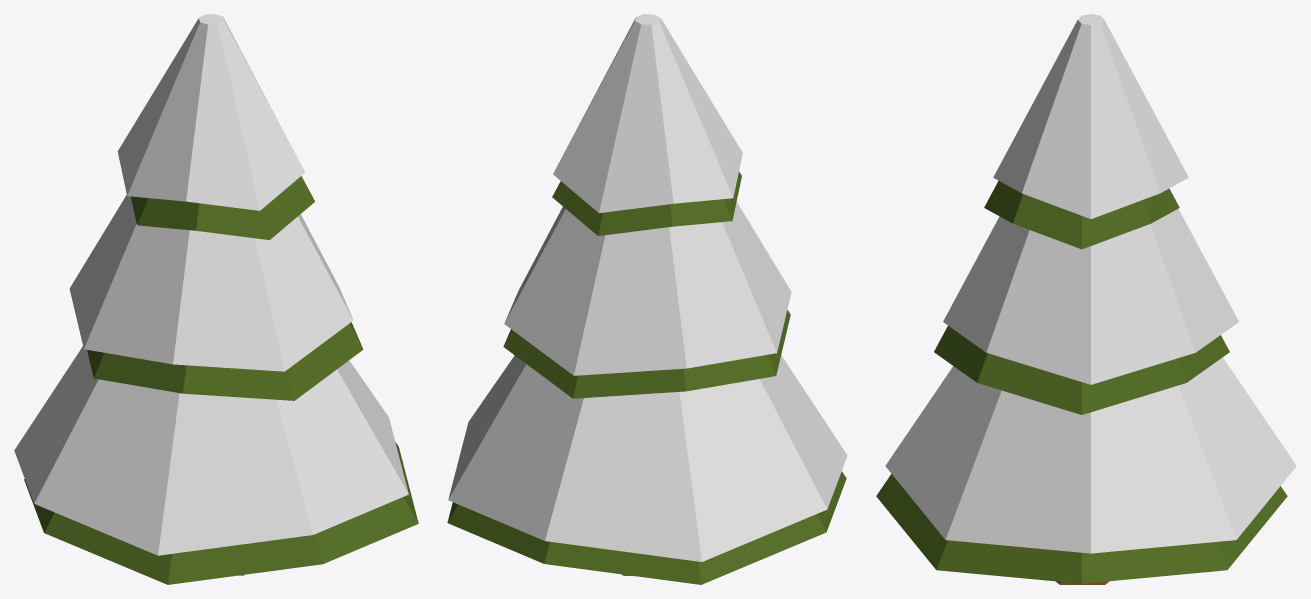
Rendered from SpruceSmallWinter.fbx.
The picture shows the model from 3 angles, left to right: view 1: azimuth 30°, elevation 25°; view 2: azimuth 150°, elevation 25°; view 3: azimuth 270°, elevation 25°; orthographic projection.
Parts seen in each view (by area): view 1: Spruce_small_winter; view 2: Spruce_small_winter; view 3: Spruce_small_winter.
Part boxes in pixels (box(x1,y1,x2,y2)): Spruce_small_winter: box(14, 14, 418, 584); Spruce_small_winter: box(447, 14, 847, 584); Spruce_small_winter: box(876, 14, 1296, 584).
Bounding box in the file's own units: 0.7857 × 1.12 × 0.7857.
